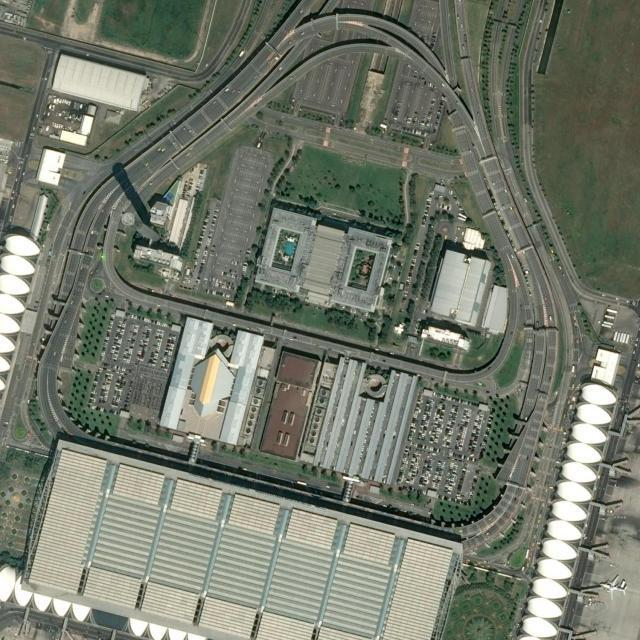Aircraft: (600, 573, 626, 599)
